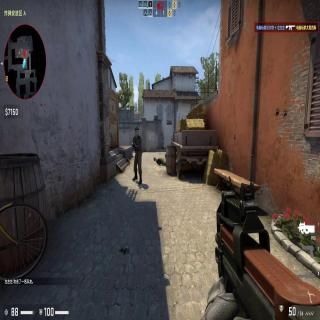T-Body: (131, 126, 143, 185)
T-Head: (134, 126, 140, 136), (153, 156, 157, 161)
